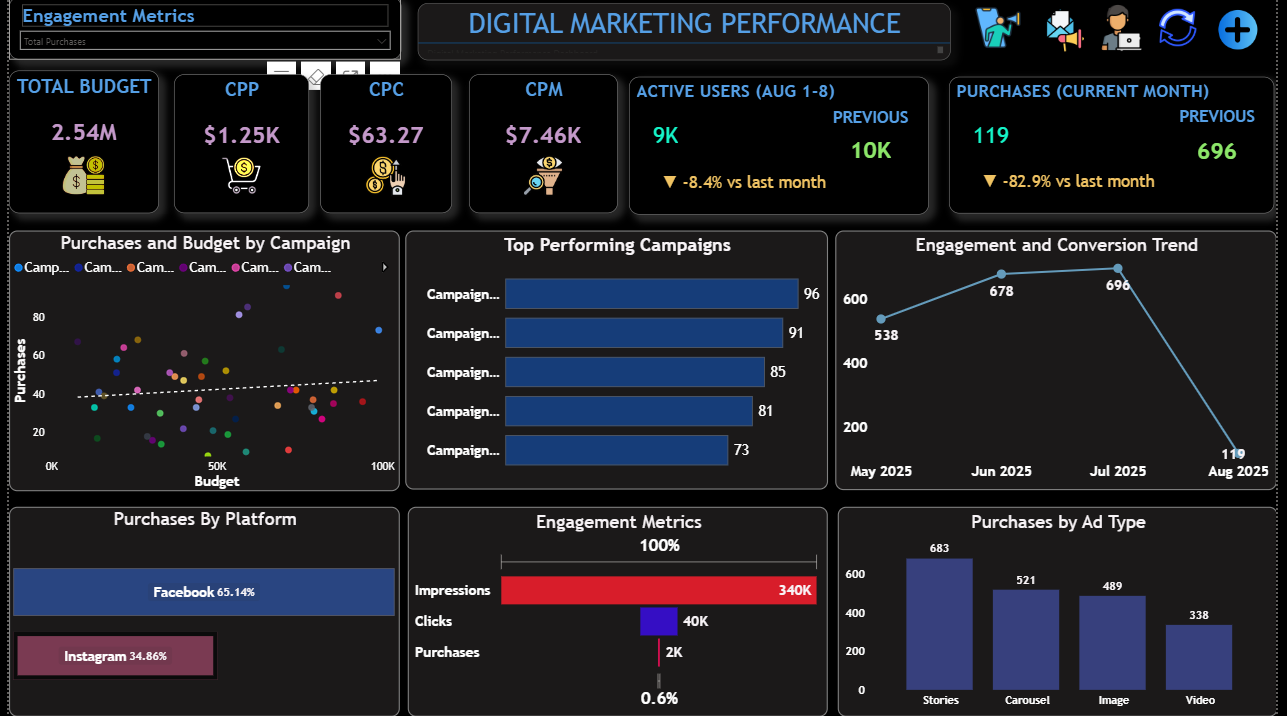

The dashboard page shown, as its layout file describes it:
{"tool":"powerbi","page":{"name":"Executive Overview","canvas":[1840,1050],"ordinal":0},"visuals":[{"type":"cardVisual","title":"ACTIVE USERS - AV (CURRENT)","fields":{"Data":["Measure Table.Users Current Month"]},"box":[0,121.5,401.1,199.7],"z":0,"group":"g2"},{"type":"cardVisual","title":"PURCHASES - AV (CURRENT)","fields":{"Data":["Measure Table.Purchases Current Month"]},"box":[429.9,125.2,426.6,198.1],"z":0,"group":"g1"},{"type":"clusteredBarChart","title":"Top Performing Campaigns","fields":{"Category":["campaigns.name"],"Y":["Measure Table.Tot_Purchases"]},"box":[575.8,345.1,613.2,376.2],"z":0},{"type":"cardVisual","title":"PREVIOUS","fields":{"Data":["Measure Table.Users Previous Month"]},"box":[240.9,166.7,164.4,92.7],"z":1000,"group":"g2"},{"type":"cardVisual","title":"PREVIOUS","fields":{"Data":["Measure Table.Purchases Previous Month"]},"box":[705.4,168,152,96.9],"z":1000,"group":"g1"},{"type":"barChart","title":"Purchases  By Platform","fields":{"Category":["ads.ad_platform"],"Y":["Measure Table.Tot_Purchases"]},"box":[0,745.4,567.1,304.9],"z":1000},{"type":"lineChart","title":"Engagement and Conversion Trend","fields":{"Y":["Measure Table.Tot_Purchases"],"Category":["ad_events.timestamp.Variation.Date Hierarchy.Year","ad_events.timestamp.Variation.Date Hierarchy.Month"]},"box":[1202.5,436.8,637.5,284.4],"z":2000},{"type":"funnel","title":"Engagement Metrics","fields":{"Category":["Marketing Funnel.Stage"],"Y":["Marketing Funnel.Funnel Value"]},"box":[579.6,745.4,609.9,304.9],"z":3000},{"type":"cardVisual","title":"TOTAL BUDGET","fields":{"Data":["Measure Table.Total Budget"]},"box":[881.7,125.2,235.8,199.6],"z":4000},{"type":"cardVisual","title":"CPM","fields":{"Data":["Measure Table.Cost_Per_Mille_100"]},"box":[1605.5,121.5,215.8,201.5],"z":5000},{"type":"textbox","title":"DIGITAL  MARKETING PERFORMANCE ","box":[0,14.5,1366,83.4],"z":6000},{"type":"actionButton","box":[1068.4,0,68.6,99.8],"z":7000},{"type":"image","box":[1580,12.5,69.5,74.9],"z":8000},{"type":"actionButton","box":[1024.8,2.1,43.7,95.6],"z":9000},{"type":"image","box":[1409.6,16.3,76.7,74.9],"z":10000},{"type":"image","box":[1494.4,19.6,85.6,67.8],"z":11000},{"type":"slicer","fields":{"Values":["Engagement Metrics.Engagement Metrics"]},"box":[1202.5,345.7,618.9,76.2],"z":12000},{"type":"clusteredColumnChart","title":"Purchases by Ad Type","fields":{"Category":["ads.ad_type"],"Y":["Measure Table.Tot_Purchases"]},"box":[1201.9,745.4,638.4,304.9],"z":13000},{"type":"cardVisual","title":"CPC","fields":{"Data":["Measure Table.Cost_Per_Click"]},"box":[1389.6,123.4,190.8,201.5],"z":14000},{"type":"cardVisual","title":"CPP","fields":{"Data":["Measure Table.Cost_Per_Purchase"]},"box":[1137.4,117.9,228.6,201.4],"z":15000},{"type":"scatterChart","title":"Purchases and Budget by Campaign","fields":{"X":["campaigns.total_budget"],"Y":["Measure Table.Tot_Purchases"],"Series":["campaigns.name"]},"box":[0,345.1,567.5,378.3],"z":16000},{"type":"group","id":"g1","title":"Group 1","box":[429.9,125.2,428.1,197.7],"z":17000},{"type":"group","id":"g2","title":"Group 2","box":[0,121.5,406.4,199.6],"z":18000},{"type":"image","box":[1727,21.8,112.5,63.5],"z":19000},{"type":"image","box":[1669,10.9,54.4,78],"z":21000}]}

Visuals, with their boxes in screenshot pixels (x1, y1, x2, y2), scaled from the page's 1840x1050 canvas onto the 1287x716 screenshot:
"ACTIVE USERS - AV (CURRENT)" cardVisual: bbox=[0, 83, 281, 219]
"PURCHASES - AV (CURRENT)" cardVisual: bbox=[301, 85, 599, 220]
"Top Performing Campaigns" clusteredBarChart: bbox=[403, 235, 832, 492]
"PREVIOUS" cardVisual: bbox=[168, 114, 283, 177]
"PREVIOUS" cardVisual: bbox=[493, 115, 600, 181]
"Purchases  By Platform" barChart: bbox=[0, 508, 397, 715]
"Engagement and Conversion Trend" lineChart: bbox=[841, 298, 1286, 492]
"Engagement Metrics" funnel: bbox=[405, 508, 832, 715]
"TOTAL BUDGET" cardVisual: bbox=[617, 85, 782, 221]
"CPM" cardVisual: bbox=[1123, 83, 1274, 220]
"DIGITAL  MARKETING PERFORMANCE " textbox: bbox=[0, 10, 955, 67]
actionButton: bbox=[747, 0, 795, 68]
image: bbox=[1105, 9, 1154, 60]
actionButton: bbox=[717, 1, 747, 67]
image: bbox=[986, 11, 1040, 62]
image: bbox=[1045, 13, 1105, 60]
slicer - Engagement Metrics.Engagement Metrics: bbox=[841, 236, 1274, 288]
"Purchases by Ad Type" clusteredColumnChart: bbox=[841, 508, 1286, 715]
"CPC" cardVisual: bbox=[972, 84, 1105, 222]
"CPP" cardVisual: bbox=[796, 80, 955, 218]
"Purchases and Budget by Campaign" scatterChart: bbox=[0, 235, 397, 493]
"Group 1" group: bbox=[301, 85, 600, 220]
"Group 2" group: bbox=[0, 83, 284, 219]
image: bbox=[1208, 15, 1286, 58]
image: bbox=[1167, 7, 1205, 61]
